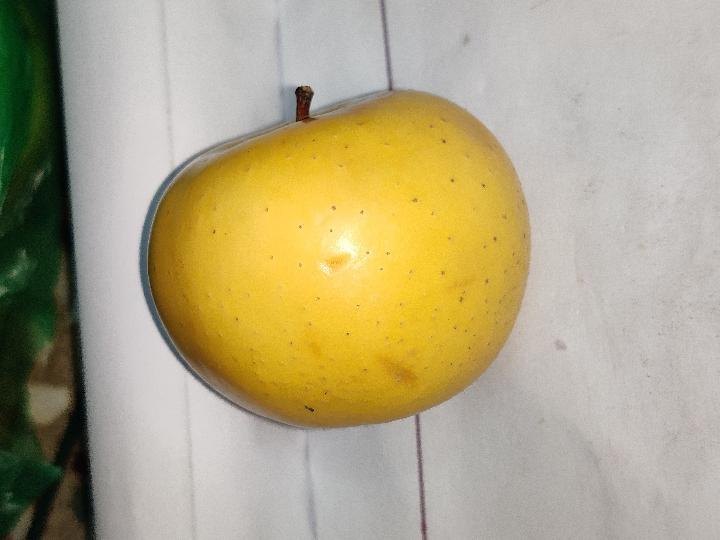apple: (141, 86, 530, 428)
